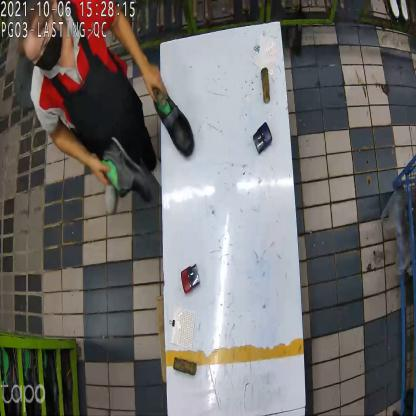shoes: (100, 86, 196, 206)
stamp: (182, 260, 201, 298), (254, 120, 272, 154)
